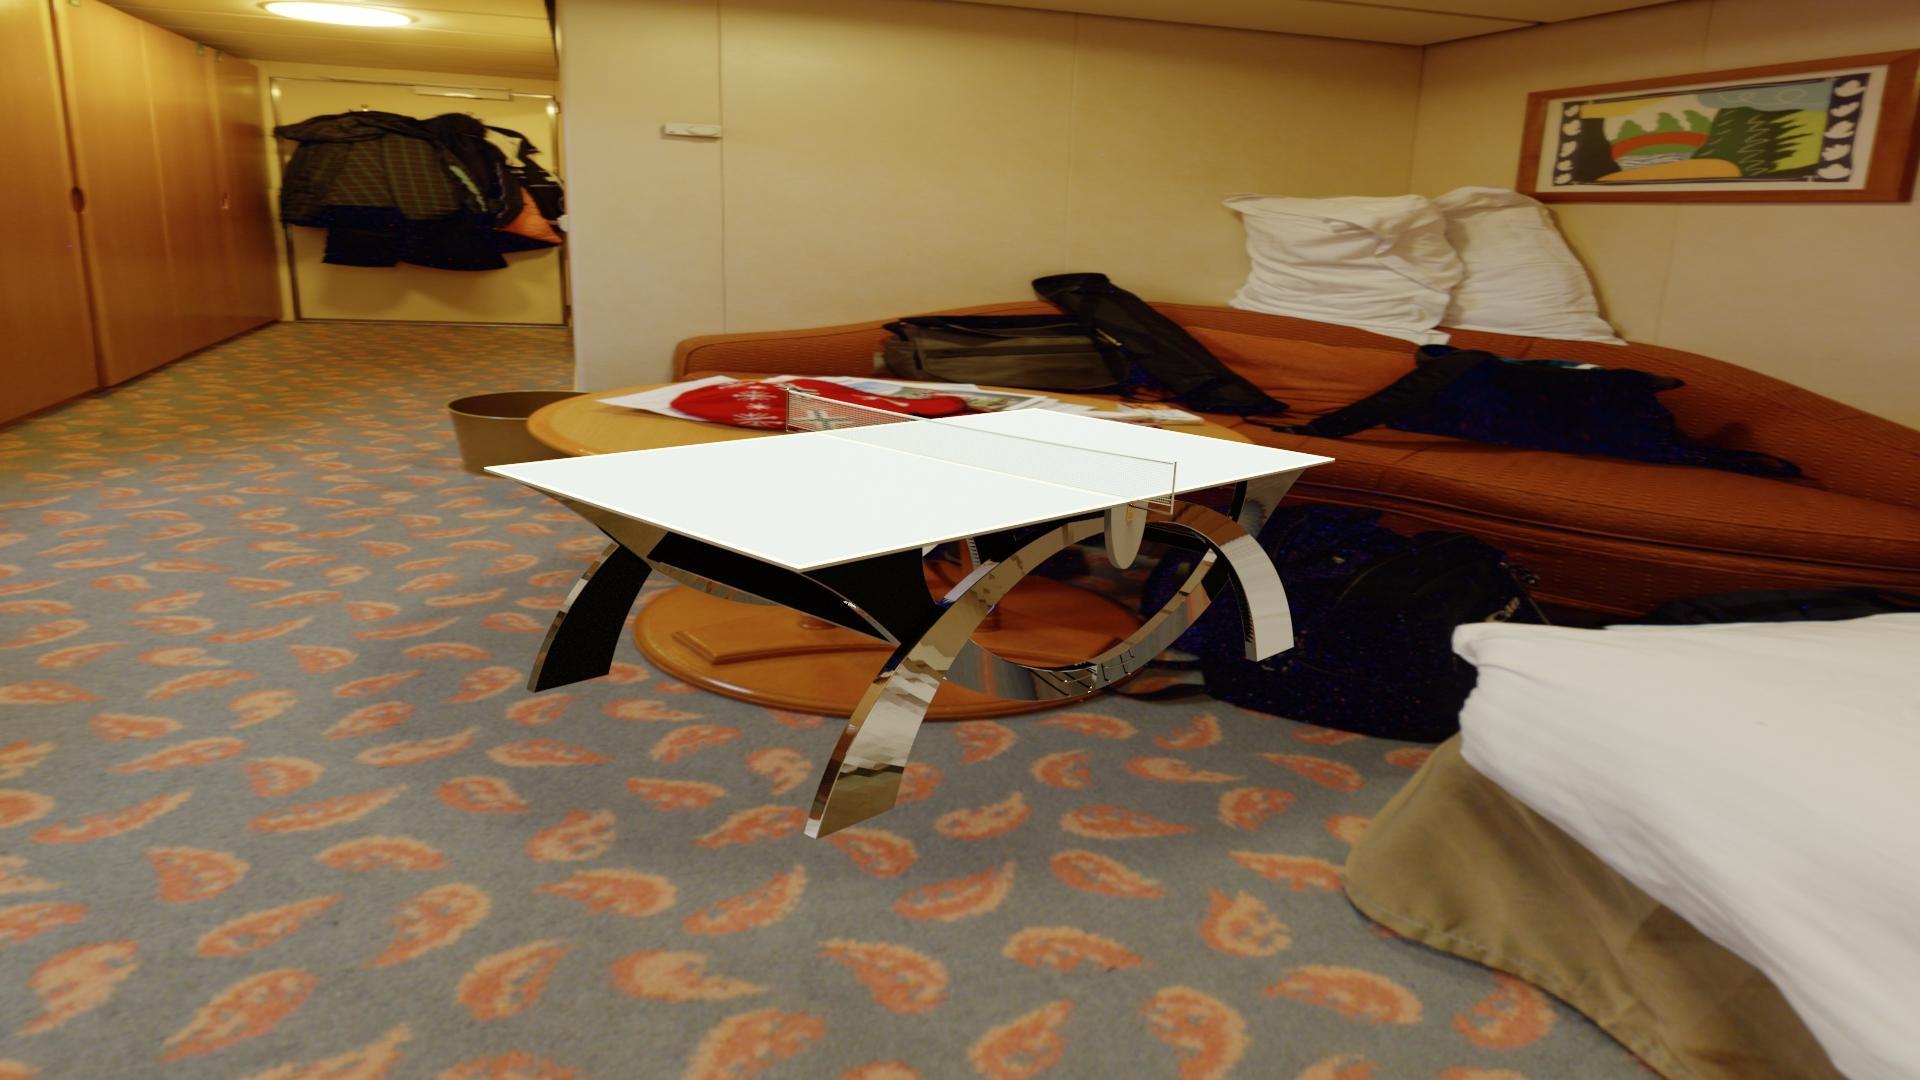table: (493, 410, 1328, 566)
